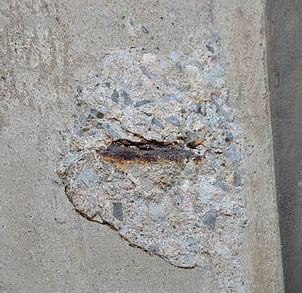Exposed reinforcement: (94, 138, 204, 163)
Spalling: (55, 29, 248, 293)
